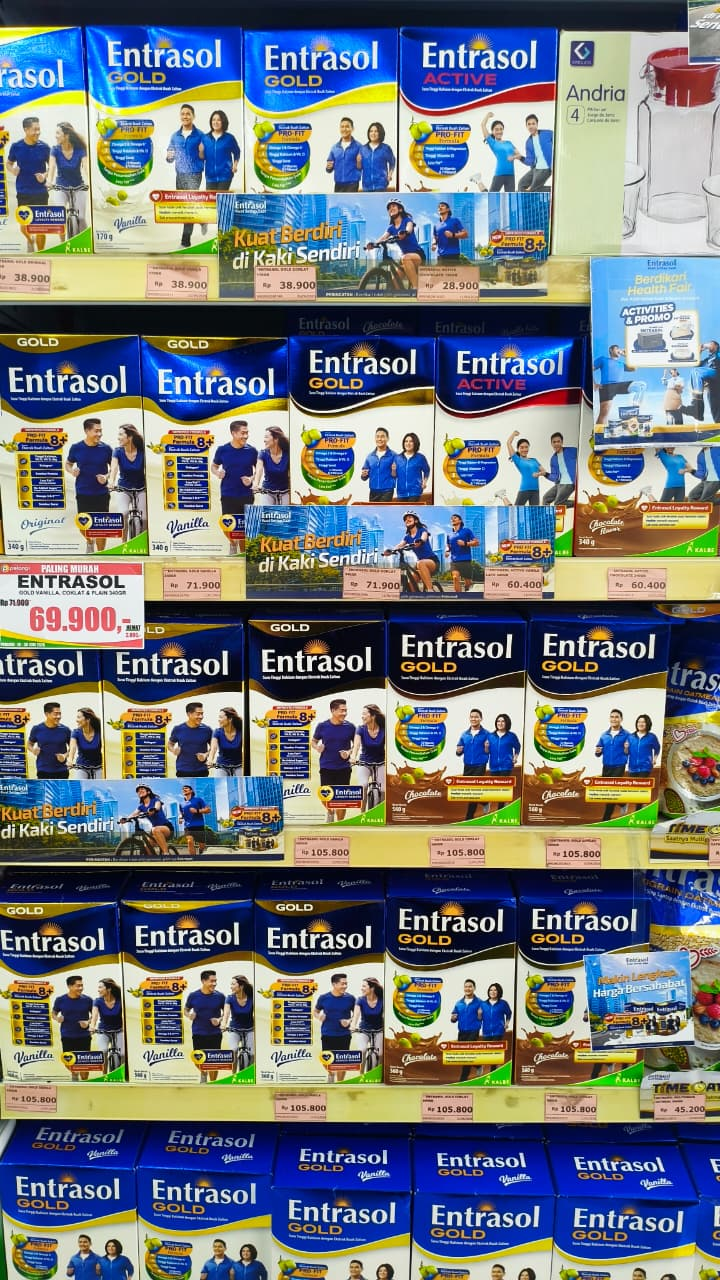Entranasol: (141, 331, 280, 470), (242, 617, 381, 756), (268, 1141, 407, 1280), (249, 20, 388, 159), (379, 867, 518, 1006), (110, 891, 249, 1030), (382, 584, 521, 723), (437, 335, 576, 474)
